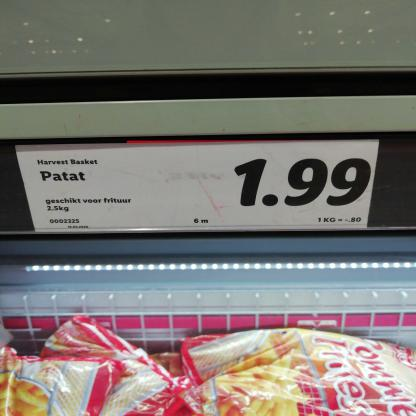prtg: (16, 141, 379, 234)
